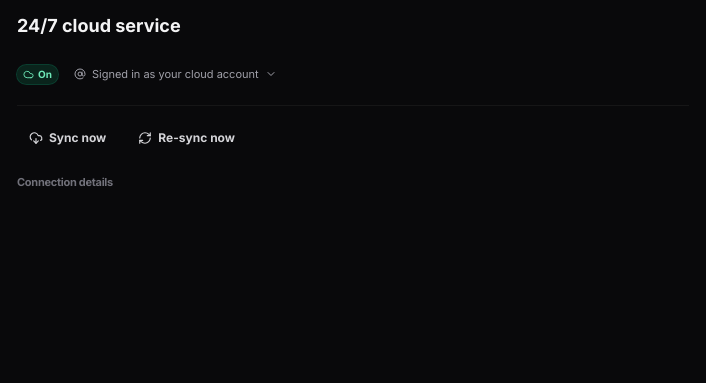
Test: Cloud › CONNECTED: re-sync renders the sealed-tokens and pushed-jobs summary
The width and height of the screenshot is (706, 383).
Step 1. Click the button "Re-sync now" → click(187, 138), box [126,122,247,154]
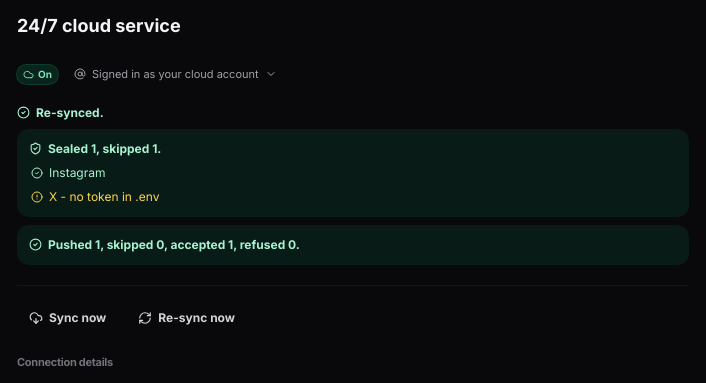
Check: the text "Sealed 1, skipped 1." is shown, box [29,140,161,156]
Check: the text "Instagram" is shown, box [49,164,106,180]
Check: the text "X - no token in .env" is shown, box [49,188,159,204]
